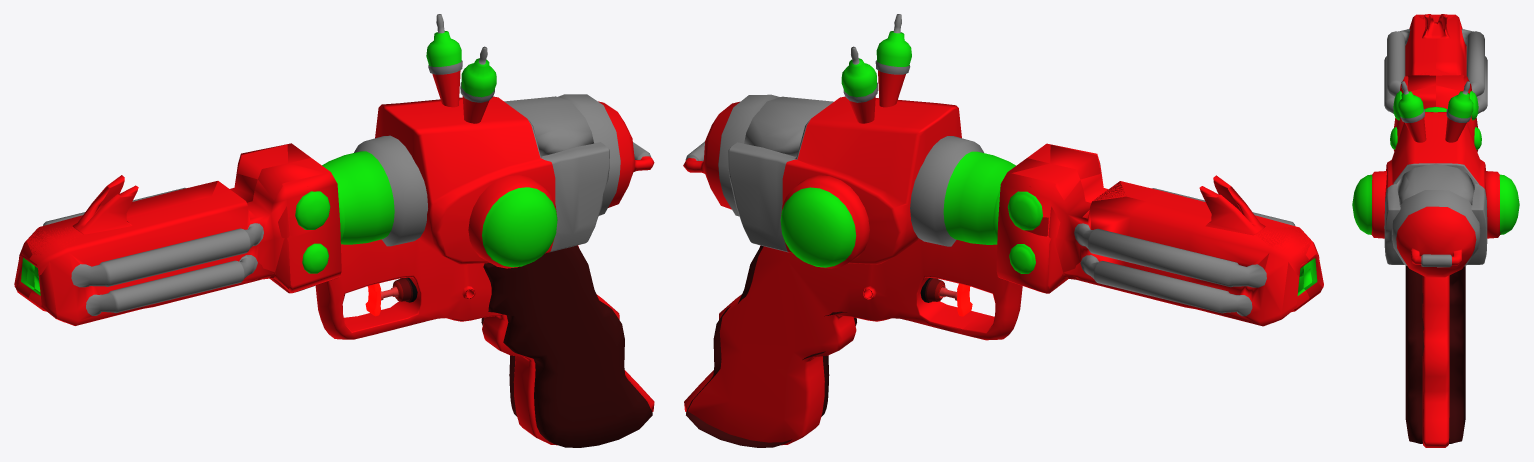
The model's file is Crimson_Punishment.fbx.
3 renders of one model, left to right at view 1: azimuth 30°, elevation 25°; view 2: azimuth 150°, elevation 25°; view 3: azimuth 270°, elevation 25°, orthographic. The views are drawn at different scales.
Visible parts, largest first — view 1: LGauges_LP.001; view 2: LGauges_LP.001; view 3: LGauges_LP.001.
Part boxes in pixels (x1,y1,x2,y2): LGauges_LP.001: (14, 14, 654, 447); LGauges_LP.001: (683, 14, 1323, 447); LGauges_LP.001: (1352, 14, 1519, 447).
Size of the model in its own units: 36.8 by 24.78 by 12.
